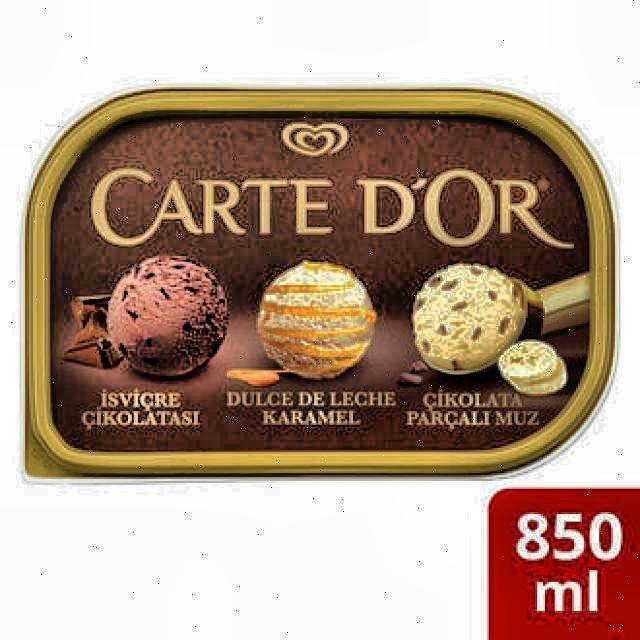plastic: (21, 88, 618, 482)
